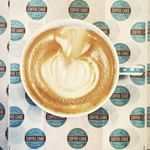cups: (18, 17, 121, 119)
